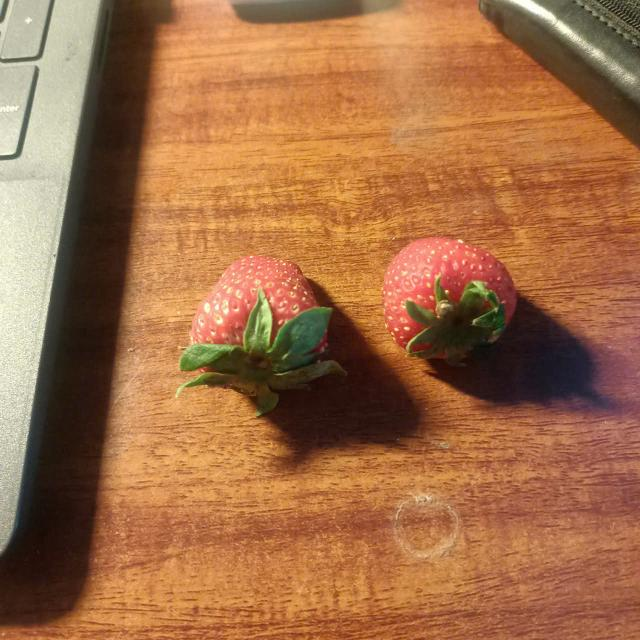DauTay: (174, 247, 342, 422), (378, 232, 522, 366)
